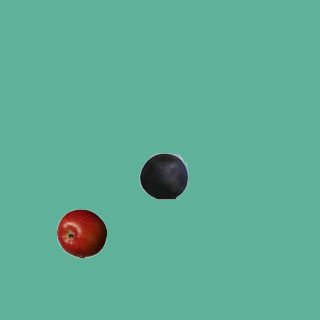Apple Braeburn: (56, 208, 106, 258)
Grape Blue: (138, 150, 188, 200)
